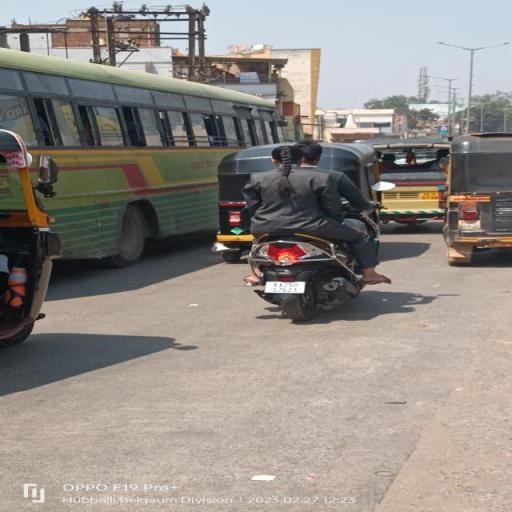bike: (246, 141, 392, 320)
numberplate: (264, 282, 306, 294)
withouthelmet: (296, 142, 322, 164), (273, 145, 300, 165)
